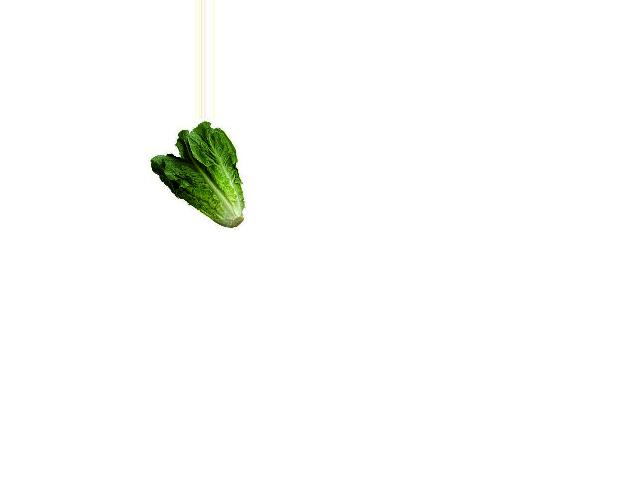lettuce: (147, 119, 248, 227)
